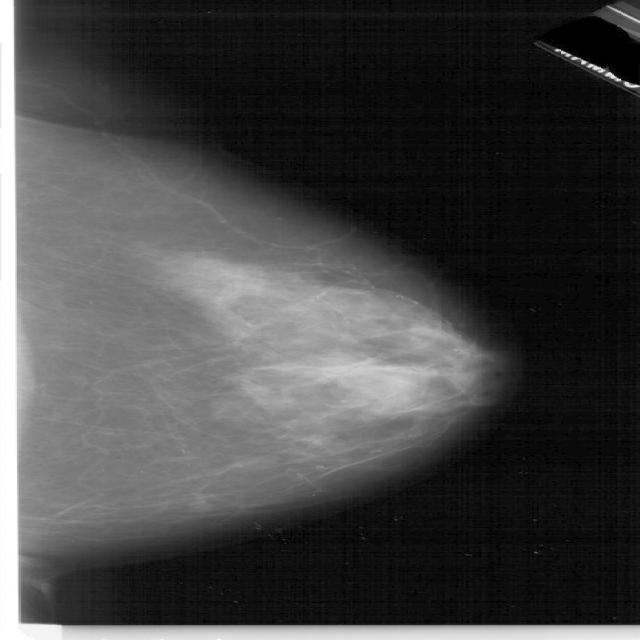tumour: (184, 500, 216, 513)
